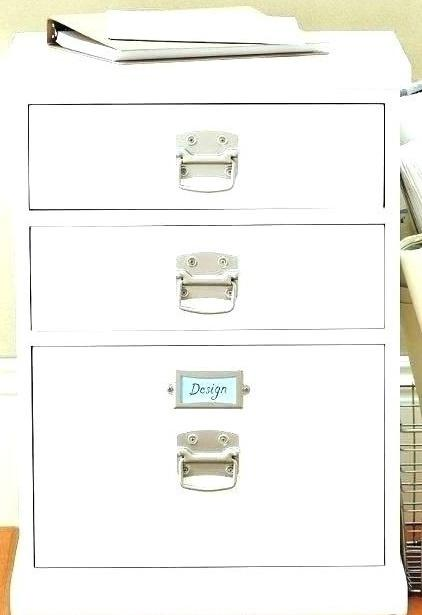cabinet_door: (34, 346, 391, 563), (29, 229, 387, 339), (28, 107, 389, 215)
handle: (174, 255, 243, 319), (176, 432, 242, 498), (174, 142, 244, 194)
